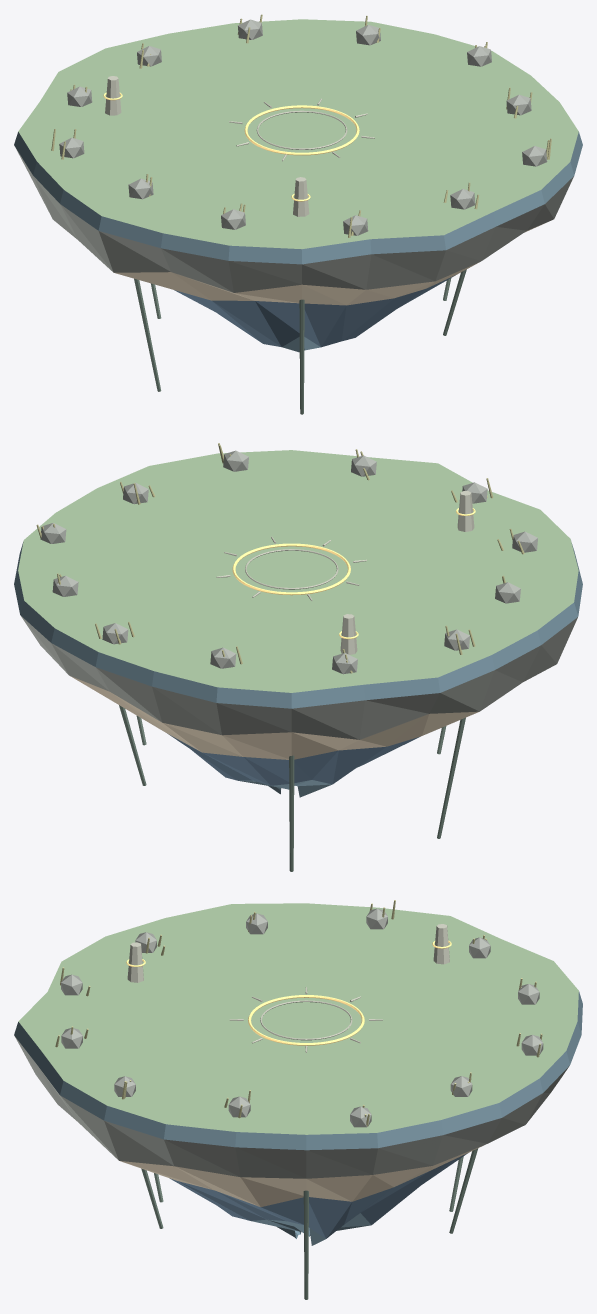
Rendered from island_1.glb.
3 views of the same model, one above another, from view 1: azimuth 30°, elevation 25°; view 2: azimuth 150°, elevation 25°; view 3: azimuth 270°, elevation 25° (orthographic). The views are drawn at different scales.
Parts seen in each view (by area): view 1: Walkable meadow.001, Layered floating bedrock.001, Island edge ornaments.001; view 2: Walkable meadow.001, Layered floating bedrock.001, Island edge ornaments.001; view 3: Walkable meadow.001, Layered floating bedrock.001, Island edge ornaments.001.
Part boxes in pixels (x1=…): Walkable meadow.001: x1=18, y1=19, x2=578, y2=249; Layered floating bedrock.001: x1=14, y1=131, x2=582, y2=352; Island edge ornaments.001: x1=51, y1=14, x2=551, y2=414; Walkable meadow.001: x1=18, y1=450, x2=578, y2=692; Layered floating bedrock.001: x1=14, y1=542, x2=582, y2=797; Island edge ornaments.001: x1=36, y1=443, x2=537, y2=871; Walkable meadow.001: x1=18, y1=903, x2=578, y2=1134; Layered floating bedrock.001: x1=14, y1=991, x2=582, y2=1245; Island edge ornaments.001: x1=55, y1=900, x2=543, y2=1299.
Bounding box in the file's own units: 23.96 × 12.51 × 24.51.
